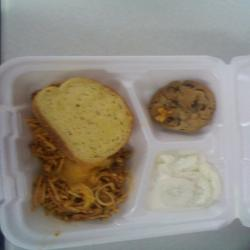bolonese_pasta: (39, 155, 121, 227)
bread: (37, 80, 126, 162)
